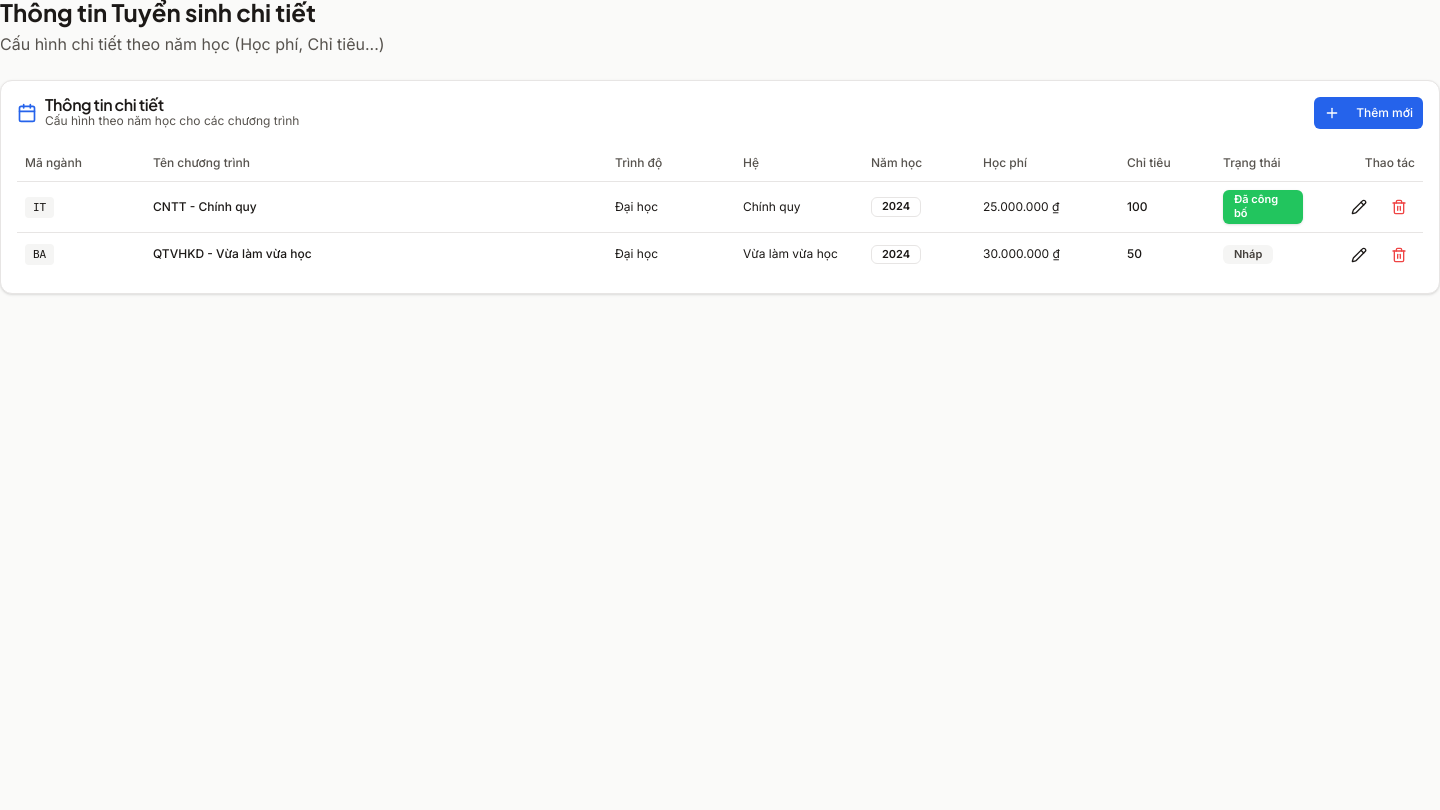
it: AcademicInfoPanel › should open edit dialog and populate data correctly
Click the 2nd button: (1359, 207) [1343, 193, 1375, 221]
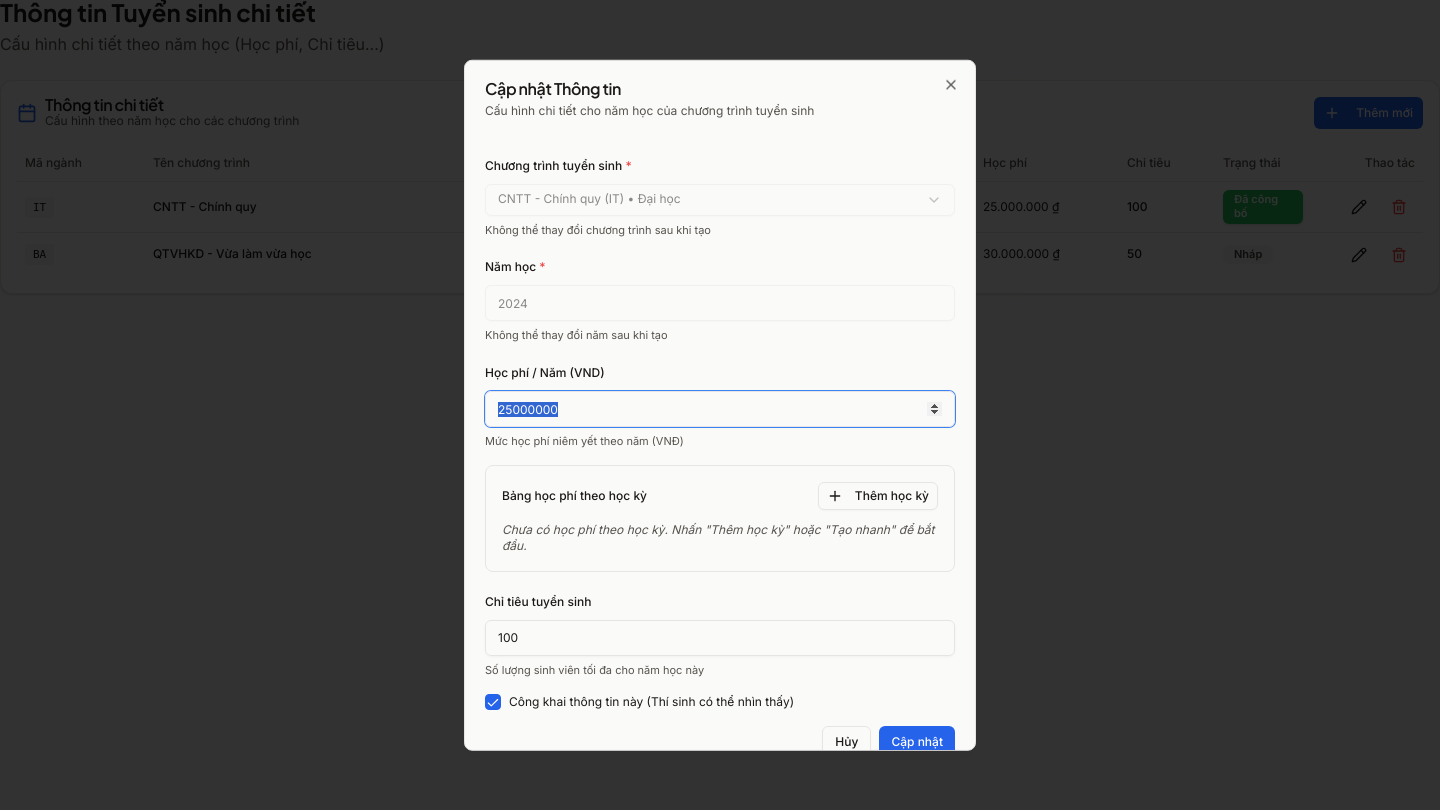
Result: the dialog is shown at [464, 60, 976, 750]
Result: the number field labelled "Năm học *" holds "2024" at [485, 285, 955, 321]
Result: the number field labelled "Học phí / Năm (VND)" holds "25000000" at [485, 391, 955, 427]
